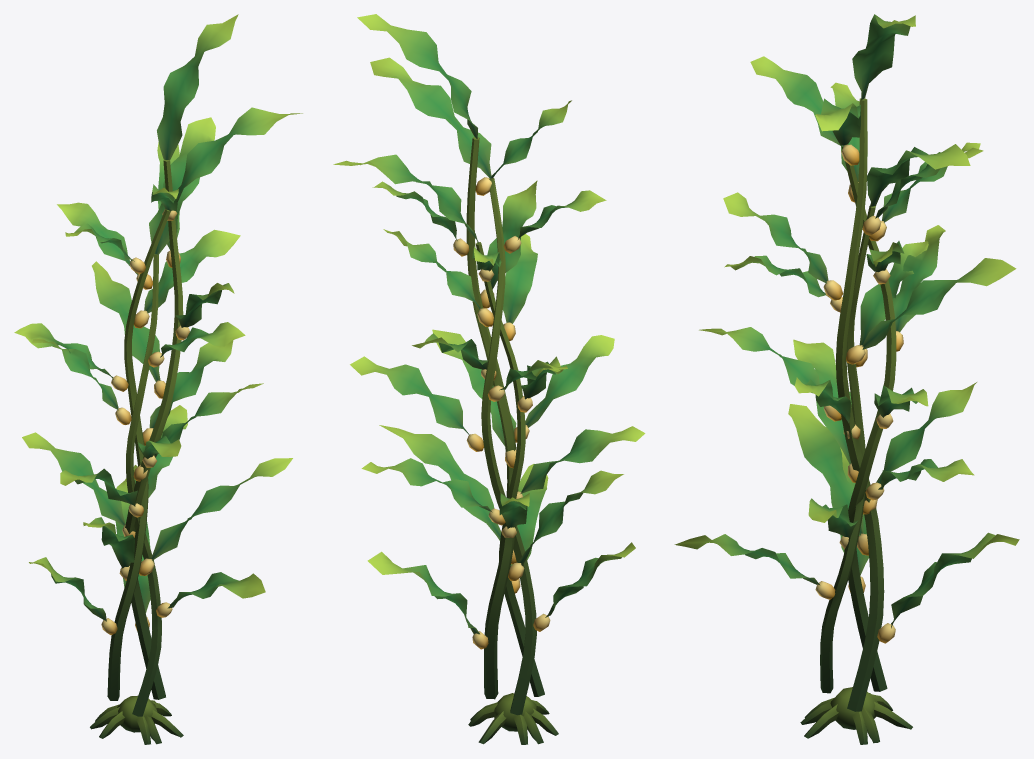
Rendered from kelp_giant.glb.
3 views of the same model, side by side, from view 1: azimuth 30°, elevation 25°; view 2: azimuth 150°, elevation 25°; view 3: azimuth 270°, elevation 25° (orthographic). The views are drawn at different scales.
Visible parts, largest first — view 1: kelp_giant; view 2: kelp_giant; view 3: kelp_giant.
Boxes of the visible parts, <box> form: kelp_giant: <box>14,14,302,744</box>; kelp_giant: <box>333,14,645,744</box>; kelp_giant: <box>674,14,1019,744</box>.
Size of the model in its own units: 5 by 12 by 4.89.
